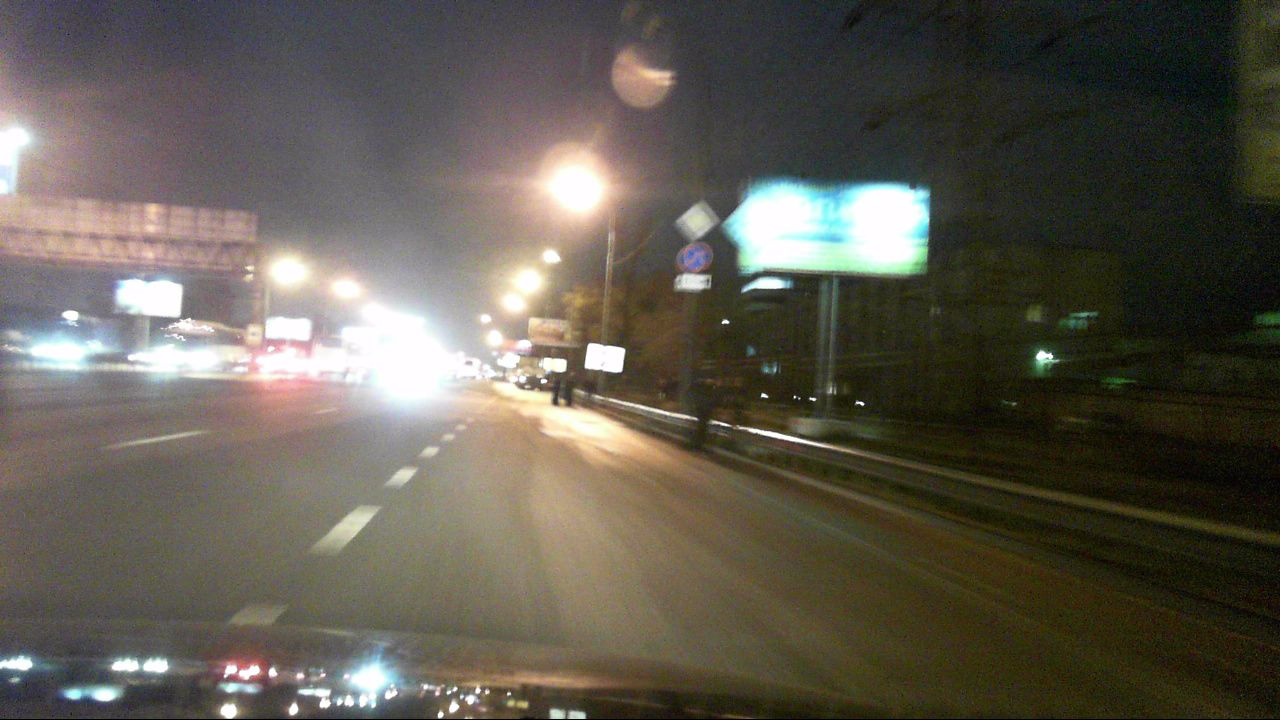No Parking: (681, 241, 712, 272)
